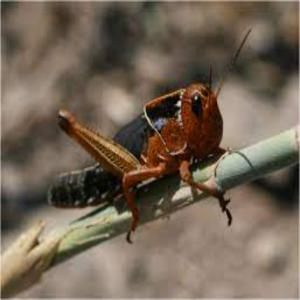locust: (37, 64, 258, 214)
